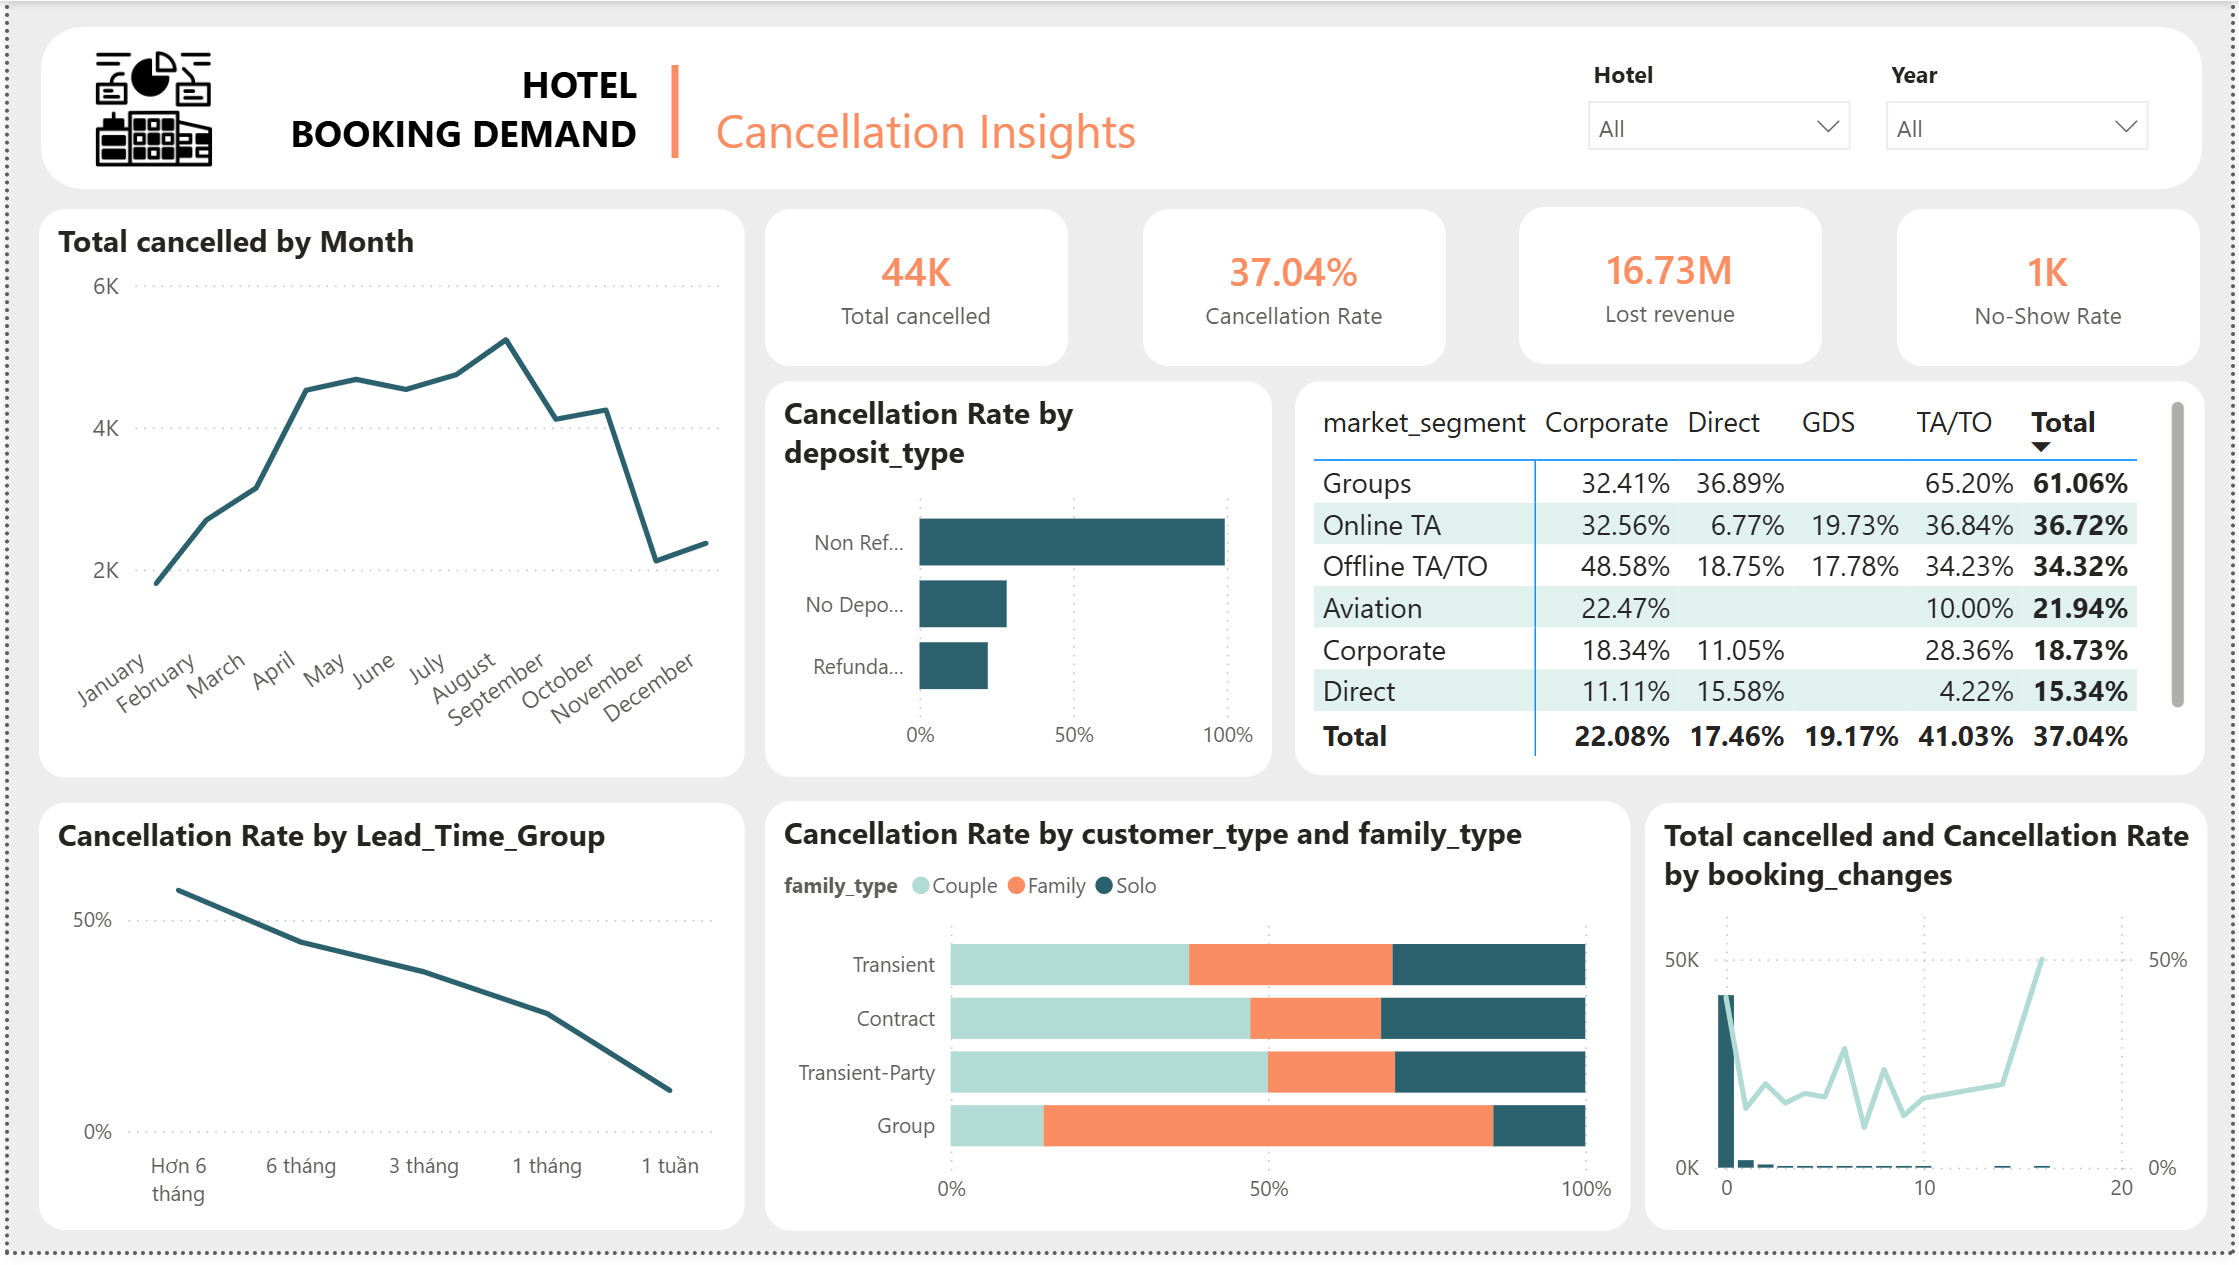

This screenshot's page, from the dashboard's own definition file:
{"tool":"powerbi","page":{"name":"Cancellation Insights","canvas":[1280,720],"ordinal":2},"visuals":[{"type":"shape","box":[18.4,15.3,1244.8,93.4],"z":0},{"type":"textbox","box":[401.6,51,260.1,47.2],"z":1000},{"type":"textbox","box":[372.1,15.3,29.1,82.7],"z":2000},{"type":"textbox","box":[147,27.6,225.1,72],"z":3000},{"type":"image","box":[41.3,27.6,84.2,68.9],"z":4000},{"type":"clusteredBarChart","fields":{"Category":["DimBookingInfo.deposit_type"],"Y":["FactBookings.Cancellation Rate"]},"box":[436,219.3,292,228.2],"z":5000},{"type":"hundredPercentStackedBarChart","fields":{"Category":["DimBookingInfo.customer_type"],"Y":["FactBookings.Cancellation Rate"],"Series":["FactBookings.family_type"]},"box":[436,460.2,498.5,247.3],"z":6000},{"type":"lineChart","fields":{"Category":["FactBookings.Lead_Time_Group"],"Y":["FactBookings.Cancellation Rate"]},"box":[17.8,461.5,406.7,246.1],"z":7000},{"type":"slicer","fields":{"Values":["DimHotel.hotel"]},"box":[899.4,27.4,170.8,68.8],"z":8000},{"type":"slicer","fields":{"Values":["DimDate.arrival_date.Variation.Date Hierarchy.Year"]},"box":[1071.6,27.4,170.8,68.8],"z":9000},{"type":"cardVisual","fields":{"Data":["FactBookings.Total cancelled"]},"box":[436,119.8,174.7,90.5],"z":10000},{"type":"cardVisual","fields":{"Data":["FactBookings.Cancellation Rate"]},"box":[653.2,119.8,174.7,90.5],"z":11000},{"type":"cardVisual","fields":{"Data":["FactBookings.Lost revenue"]},"box":[870.3,118.6,174.7,90.5],"z":12000},{"type":"pivotTable","fields":{"Columns":["DimMarket.distribution_channel"],"Rows":["DimMarket.market_segment"],"Values":["FactBookings.Cancellation Rate"]},"box":[740.7,219.3,524,226.9],"z":13000},{"type":"lineChart","fields":{"Category":["DimDate.arrival_date.Variation.Date Hierarchy.Month"],"Y":["FactBookings.Total cancelled"]},"box":[17.8,119.8,406.7,327.6],"z":14000},{"type":"cardVisual","fields":{"Data":["FactBookings.No-Show Rate"]},"box":[1087.5,119.8,174.7,90.5],"z":16000},{"type":"lineClusteredColumnComboChart","fields":{"Category":["FactBookings.booking_changes"],"Y":["FactBookings.Total cancelled"],"Y2":["FactBookings.Cancellation Rate"]},"box":[942.2,461.5,323.8,246.1],"z":17000}]}

Visuals, with their boxes in screenshot pixels (x1, y1, x2, y2), scaled from the page's 1280x720 canvas onto the 2239x1265 screenshot:
shape: {"left": 32, "top": 27, "right": 2210, "bottom": 191}
textbox: {"left": 702, "top": 90, "right": 1157, "bottom": 173}
textbox: {"left": 651, "top": 27, "right": 702, "bottom": 172}
textbox: {"left": 257, "top": 48, "right": 651, "bottom": 175}
image: {"left": 72, "top": 48, "right": 220, "bottom": 170}
clusteredBarChart - DimBookingInfo.deposit_type x FactBookings.Cancellation Rate: {"left": 763, "top": 385, "right": 1273, "bottom": 786}
hundredPercentStackedBarChart - DimBookingInfo.customer_type x FactBookings.Cancellation Rate: {"left": 763, "top": 809, "right": 1635, "bottom": 1243}
lineChart - FactBookings.Lead_Time_Group x FactBookings.Cancellation Rate: {"left": 31, "top": 811, "right": 743, "bottom": 1243}
slicer - DimHotel.hotel: {"left": 1573, "top": 48, "right": 1872, "bottom": 169}
slicer - DimDate.arrival_date.Variation.Date Hierarchy.Year: {"left": 1874, "top": 48, "right": 2173, "bottom": 169}
cardVisual - FactBookings.Total cancelled: {"left": 763, "top": 210, "right": 1068, "bottom": 369}
cardVisual - FactBookings.Cancellation Rate: {"left": 1143, "top": 210, "right": 1448, "bottom": 369}
cardVisual - FactBookings.Lost revenue: {"left": 1522, "top": 208, "right": 1828, "bottom": 367}
pivotTable - DimMarket.distribution_channel x DimMarket.market_segment: {"left": 1296, "top": 385, "right": 2212, "bottom": 784}
lineChart - DimDate.arrival_date.Variation.Date Hierarchy.Month x FactBookings.Total cancelled: {"left": 31, "top": 210, "right": 743, "bottom": 786}
cardVisual - FactBookings.No-Show Rate: {"left": 1902, "top": 210, "right": 2208, "bottom": 369}
lineClusteredColumnComboChart - FactBookings.booking_changes x FactBookings.Total cancelled: {"left": 1648, "top": 811, "right": 2215, "bottom": 1243}
